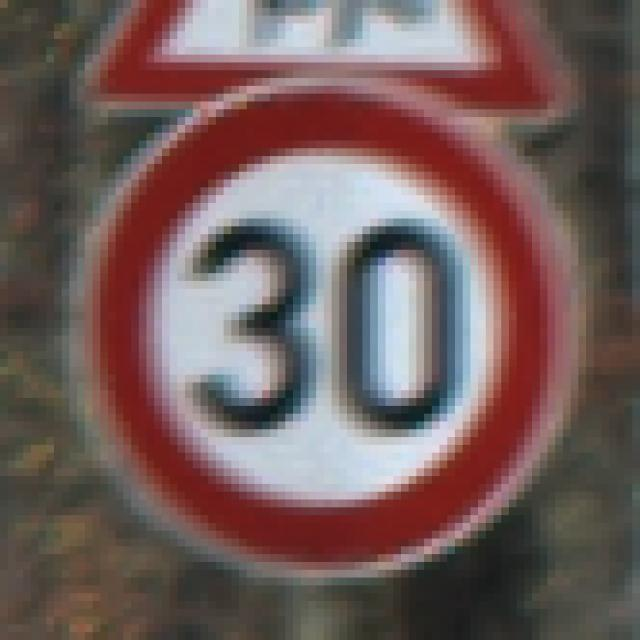Speed Limit -30-: (62, 51, 578, 581)
